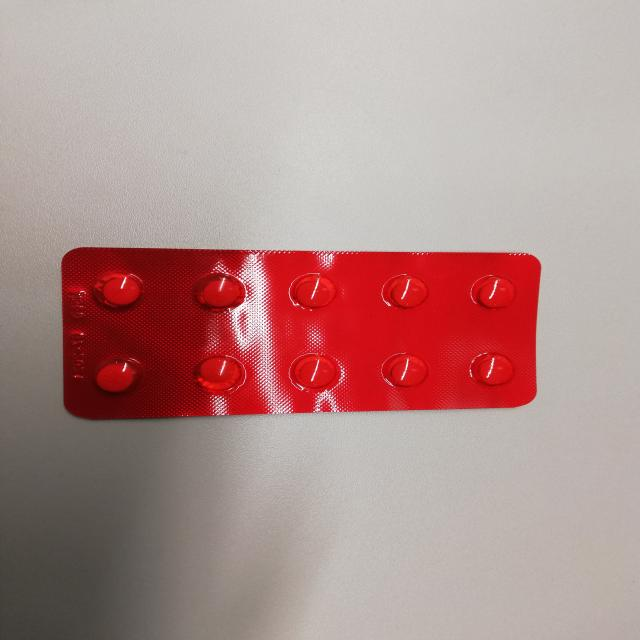Pill: (72, 349, 150, 404), (180, 268, 253, 318), (87, 264, 154, 315), (276, 347, 343, 396), (372, 268, 441, 311), (185, 353, 250, 397), (283, 268, 343, 315), (372, 353, 437, 396), (465, 346, 522, 392), (470, 271, 530, 314)
